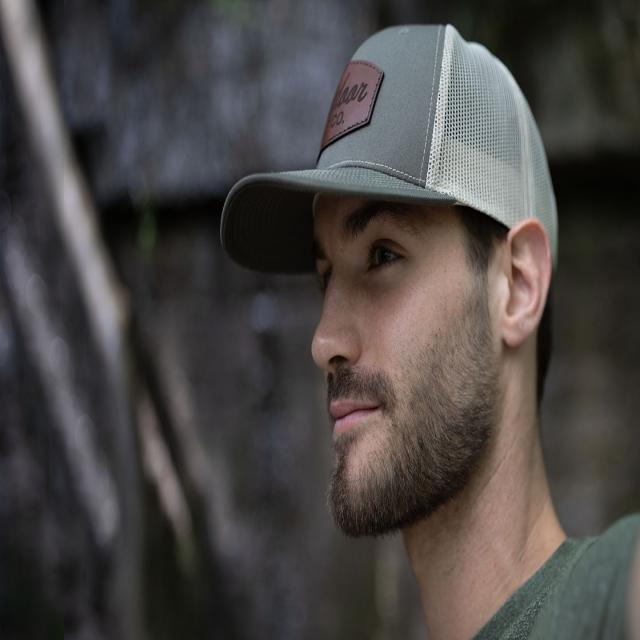mask: (198, 17, 583, 312)
